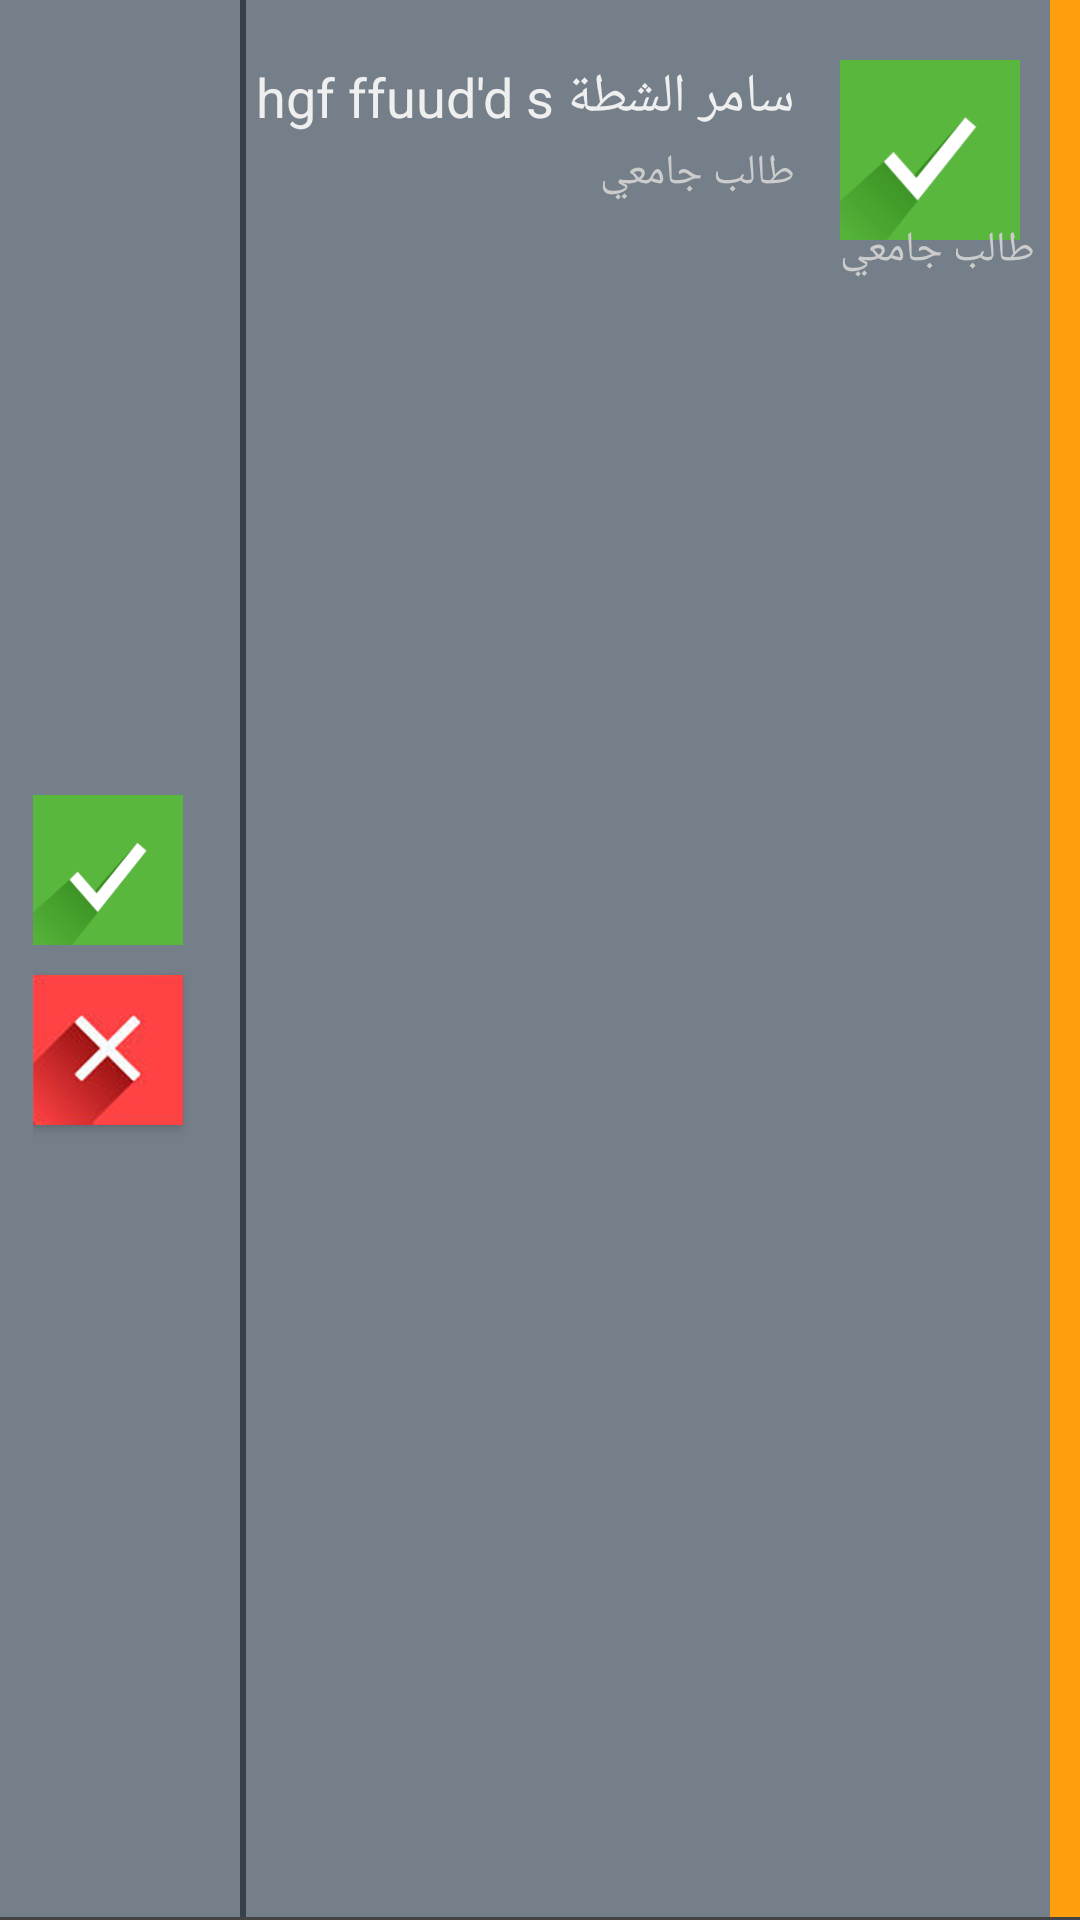

Where icons sit on this 1080 × 1920 app screen, as (x1, y1, x2, y2):
check: (840, 60, 1020, 240), (33, 795, 183, 945)
close: (33, 975, 183, 1125)
